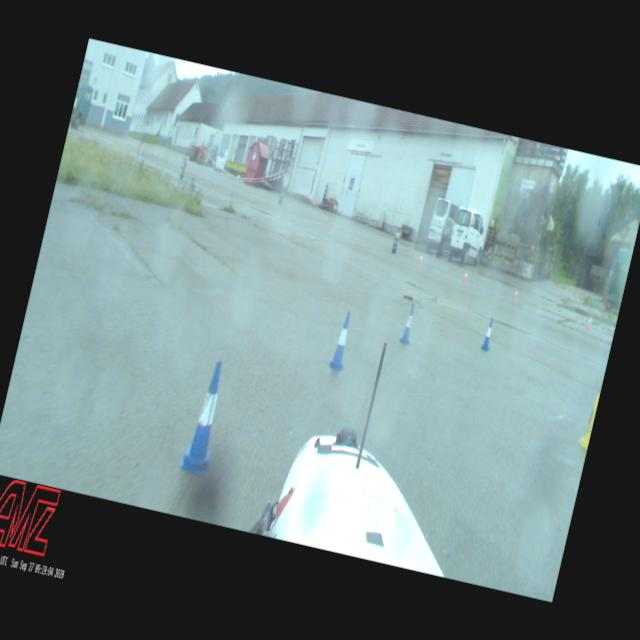blue_cone: (178, 355, 234, 475), (326, 310, 356, 370), (398, 302, 418, 345), (480, 316, 496, 350)
orange_cone: (585, 312, 593, 330), (512, 287, 519, 302), (462, 268, 468, 283), (418, 252, 424, 266)
yellow_cone: (576, 391, 600, 448)
